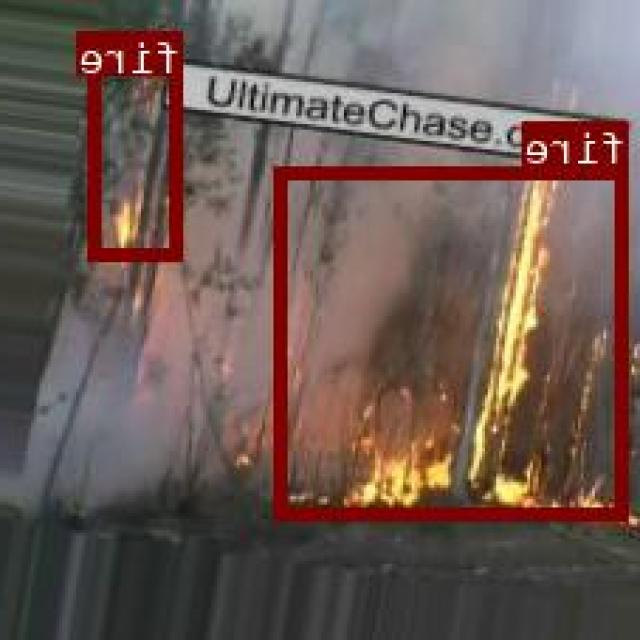fire: (277, 166, 630, 518), (93, 29, 183, 259)
